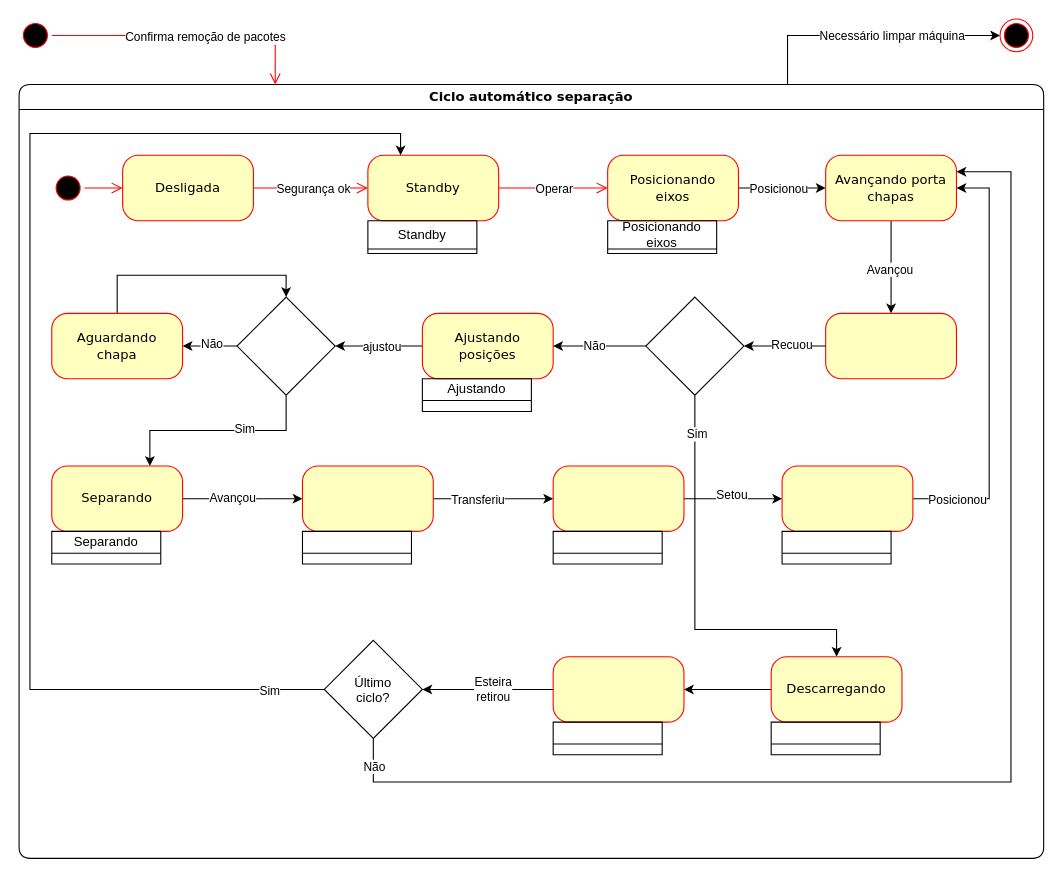
Some shapes in this 1063 by 877 pixel diagram are drawn without their labels. Here are the shapes that lost their labels. From the top down, the centre of each, then its label:
At point (285, 345): "Tem chapa na entrada?".
At point (694, 345): "Pacote montado?".
At point (890, 345): "Recuando facas".
At point (367, 498): "Transferindo elevador".
At point (618, 498): "Calculando giro".
At point (847, 498): "Girando".
At point (618, 689): "Aguardando saída da separação".
